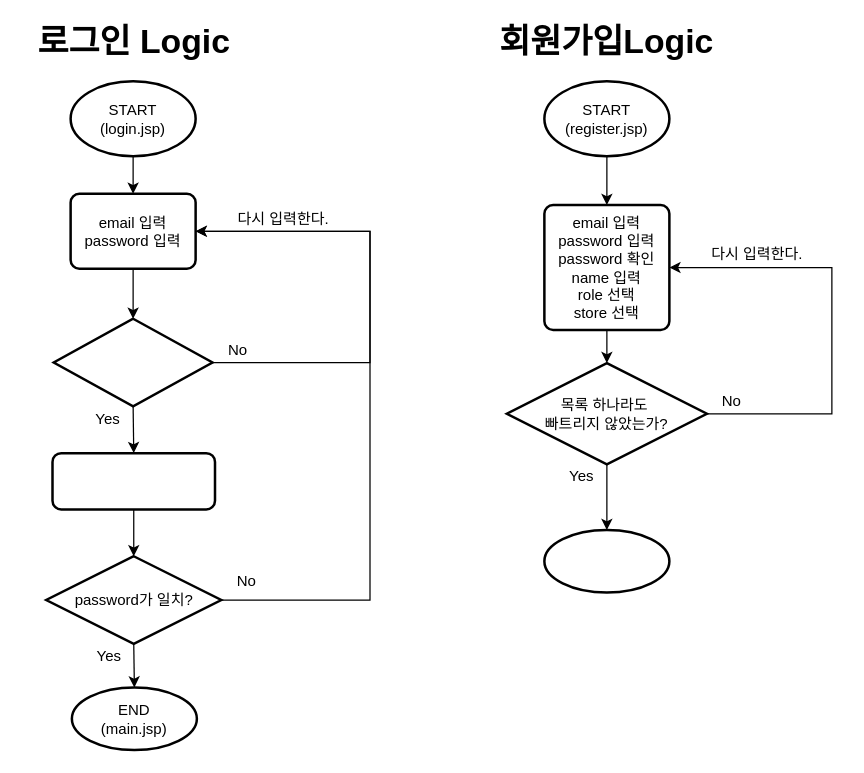
Image size: 864x773. Some labels were removed from this diagram. The shapes that lost their labels are listed below. From the top down, each one's centre as x and y in pixels, then its label:
the point at 132,362: 존재하는 email?
the point at 133,480: BCryptPassword와 일치하는지 검사
the point at 606,560: END (login.jsp)
